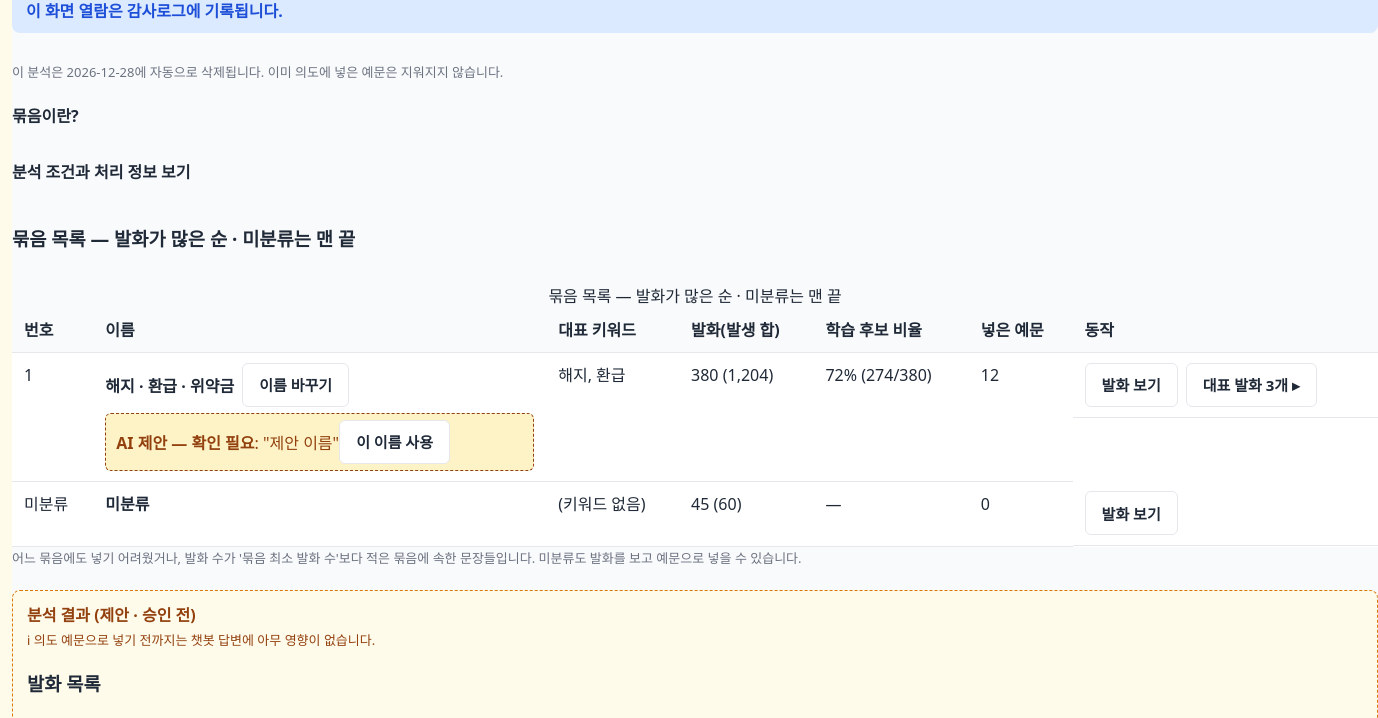
Test: 발화 묶음 분석 화면 — axe 접근성 스캔 › UA-3 완료 — 이름 바꾸기 편집 중
(page scrolled)
What coordinates should you click on to do the following:
click the button with aria-label "1번 묶음 이름 바꾸기"
I would click on:
 (296, 385)
Its box is x1=242 y1=363 x2=349 y2=407.
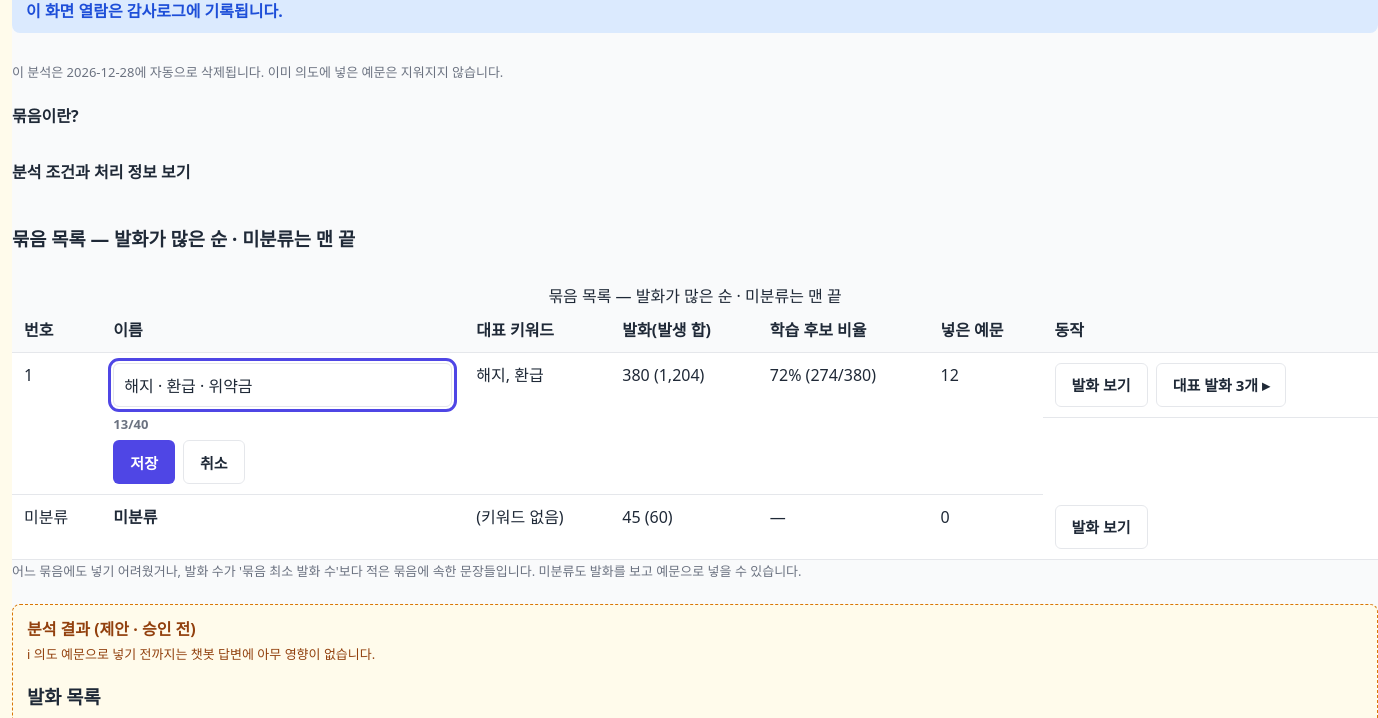
Expected: the field named "1번 묶음 이름" is shown, x1=113 y1=363 x2=452 y2=407
